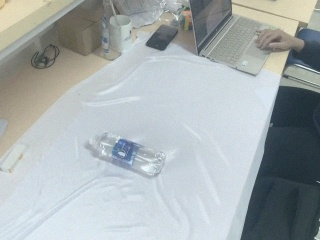bottle: (84, 132, 166, 179)
box: (56, 1, 105, 58)
cup: (109, 15, 133, 53)
phone: (145, 24, 178, 51)
